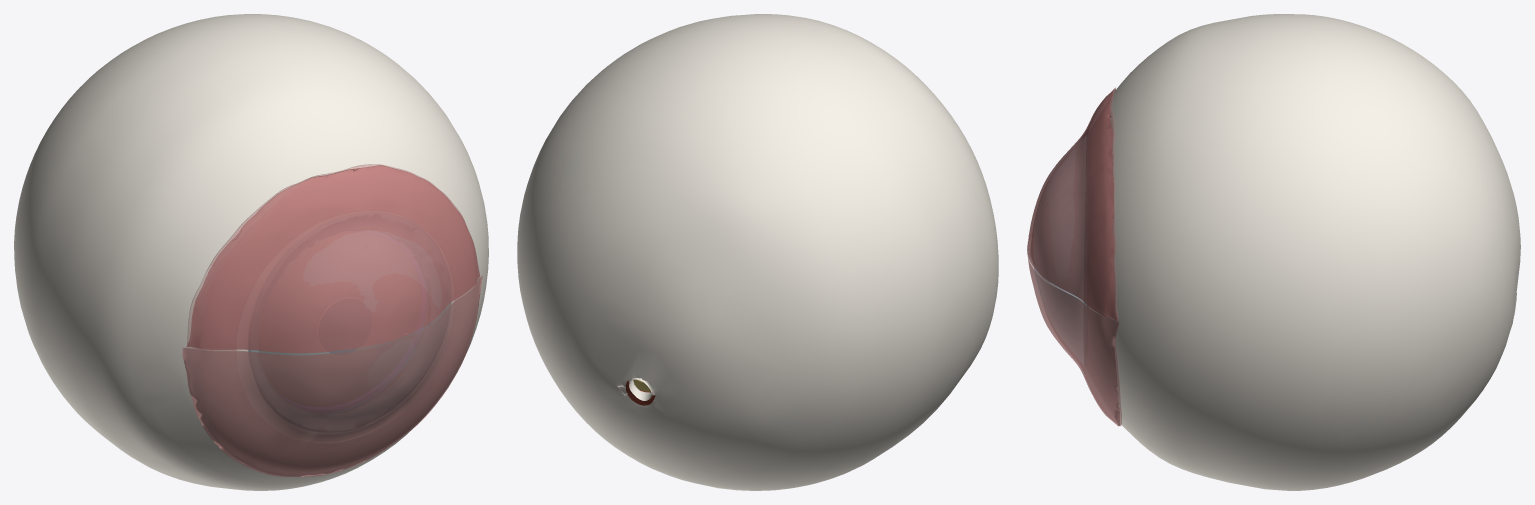
The model's file is olho.glb.
3 renders of one model, left to right at view 1: azimuth 30°, elevation 25°; view 2: azimuth 150°, elevation 25°; view 3: azimuth 270°, elevation 25°, orthographic.
Parts seen in each view (by area): view 1: VH_M_sclera_L, VH_M_palpebral_conjunctiva_of_upper_eyelid_L, VH_M_palpebral_conjunctiva_of_lower_eyelid_L, VH_M_cornea_L, VH_M_bulbar_conjunctiva_L; view 2: VH_M_sclera_L; view 3: VH_M_sclera_L, VH_M_palpebral_conjunctiva_of_upper_eyelid_L, VH_M_palpebral_conjunctiva_of_lower_eyelid_L, VH_M_cornea_L, VH_M_bulbar_conjunctiva_L.
Part boxes in pixels (x1,y1,x2,y2): VH_M_sclera_L: (14, 14, 488, 490); VH_M_palpebral_conjunctiva_of_upper_eyelid_L: (186, 165, 479, 353); VH_M_palpebral_conjunctiva_of_lower_eyelid_L: (182, 275, 482, 476); VH_M_cornea_L: (248, 232, 451, 389); VH_M_bulbar_conjunctiva_L: (186, 164, 479, 446); VH_M_sclera_L: (517, 14, 998, 490); VH_M_sclera_L: (1089, 14, 1520, 490); VH_M_palpebral_conjunctiva_of_upper_eyelid_L: (1027, 89, 1118, 320); VH_M_palpebral_conjunctiva_of_lower_eyelid_L: (1027, 236, 1120, 426); VH_M_cornea_L: (1034, 148, 1086, 305); VH_M_bulbar_conjunctiva_L: (1086, 87, 1121, 425).
Bounding box in the file's own units: 0.0245 × 0.0245 × 0.0254.
